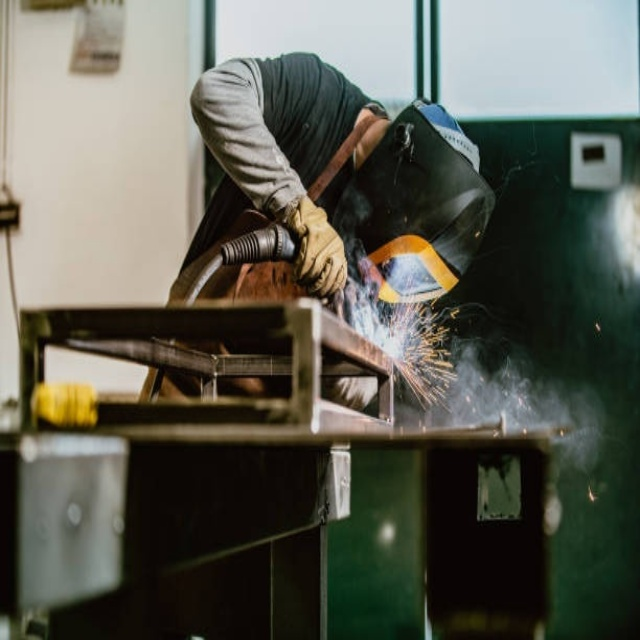Guantes: (283, 197, 348, 302)
